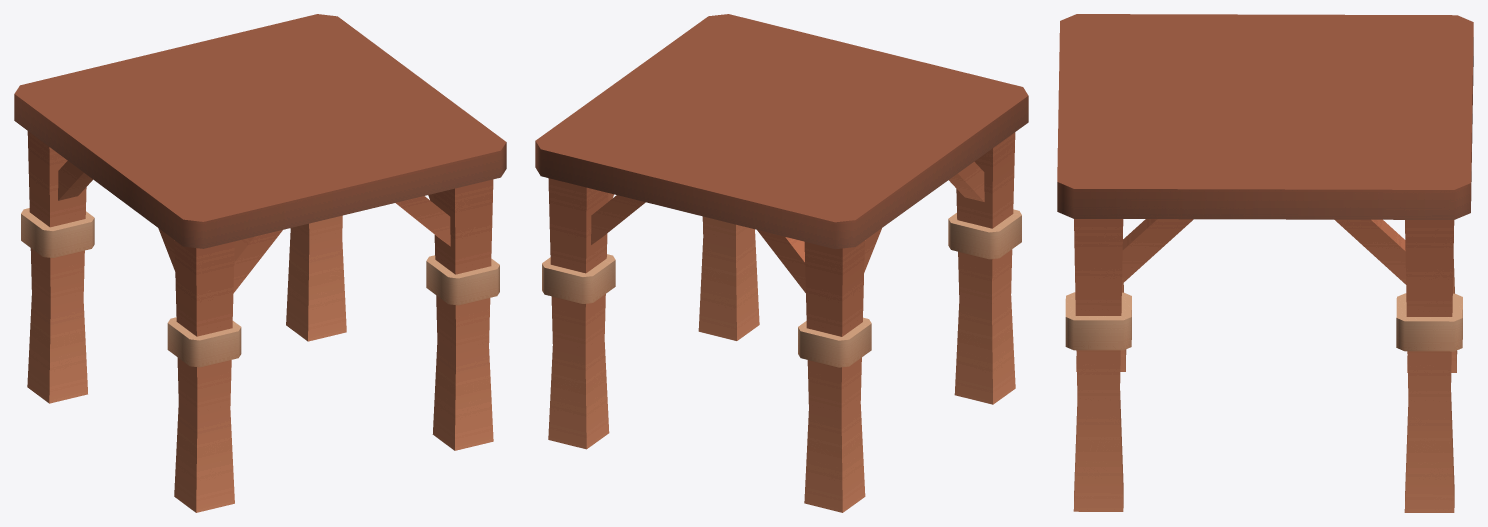
Rendered from structure_lev2.glb.
3 renders of one model, left to right at view 1: azimuth 30°, elevation 25°; view 2: azimuth 150°, elevation 25°; view 3: azimuth 270°, elevation 25°, orthographic. The views are drawn at different scales.
Parts seen in each view (by area): view 1: structure_lev2; view 2: structure_lev2; view 3: structure_lev2.
Boxes of the visible parts, box(x1,y1,x2,y2) form: structure_lev2: box(14, 14, 506, 512); structure_lev2: box(535, 14, 1028, 512); structure_lev2: box(1057, 14, 1473, 512).
Size of the model in its own units: 2.52 by 2.2 by 2.52.
Materials: 1 (1 with a texture image).
